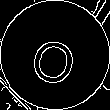O_N: (28, 25, 82, 85)
